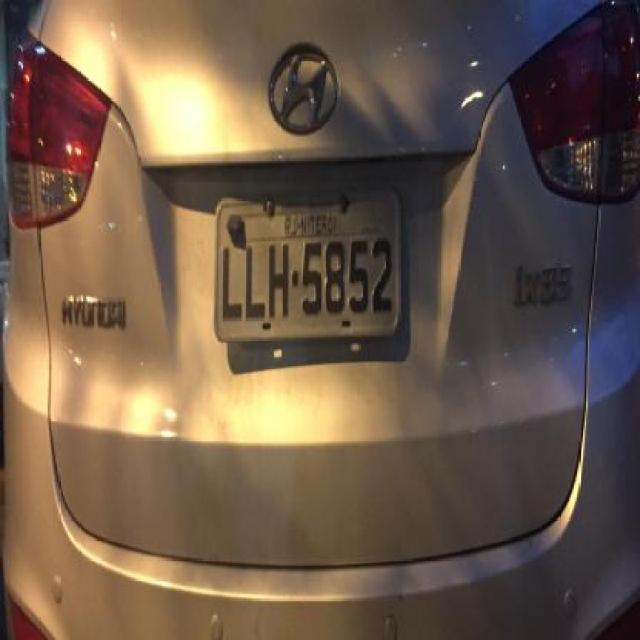old_plate: (208, 180, 406, 350)
